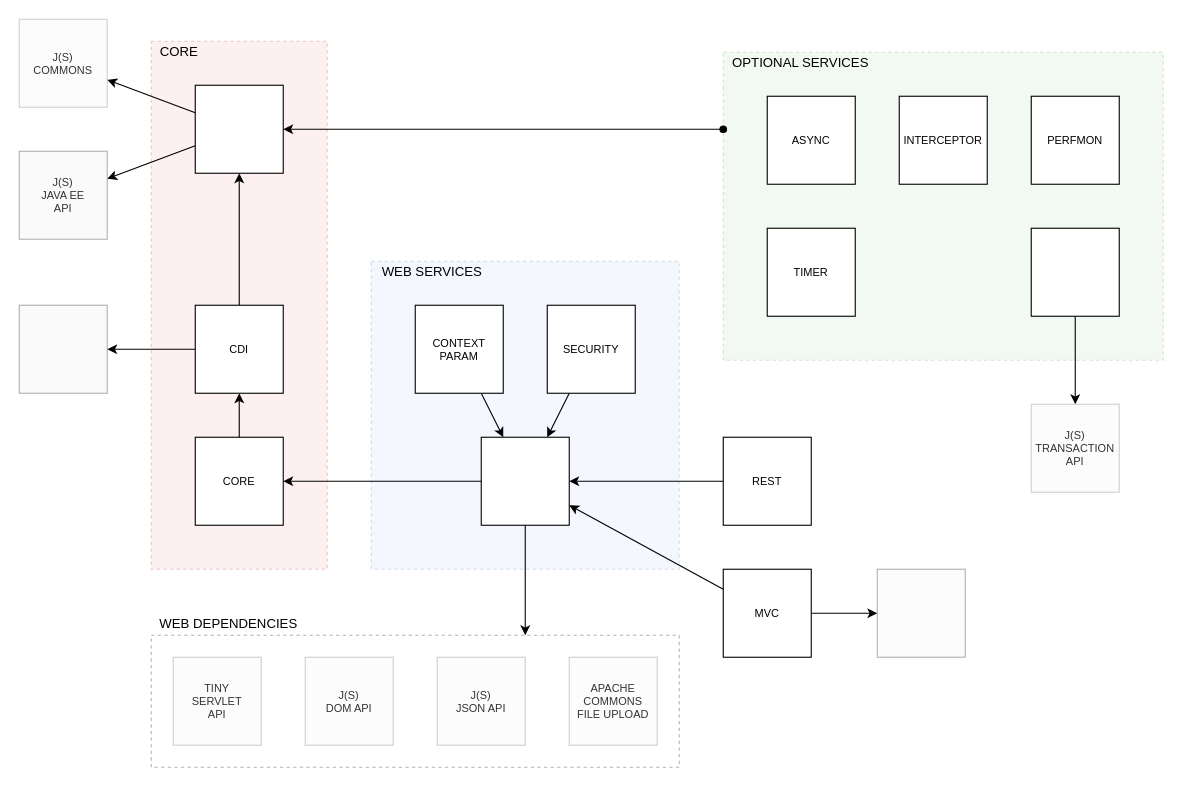
Image size: 1183x787. Some labels were removed from this diagram. The shapes that lost their labels are listed below. From the top down, each one's box as (x1, y1, x2, y2) in pixels, then its label:
(194, 84, 283, 173): SPI
(1030, 227, 1119, 316): TRANSACTION
(18, 304, 107, 393): J(S) INJECTOR
(480, 436, 569, 525): WEB
(876, 568, 965, 657): J(S) TEMPLATE API
